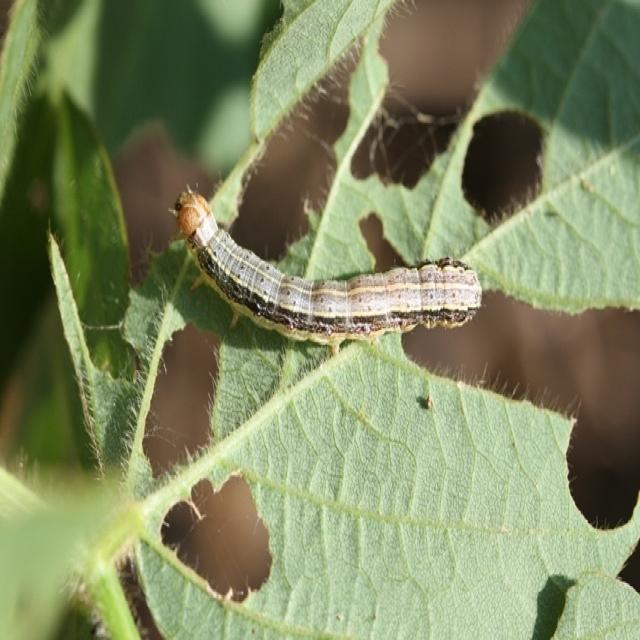armyworm: (167, 181, 483, 351)
